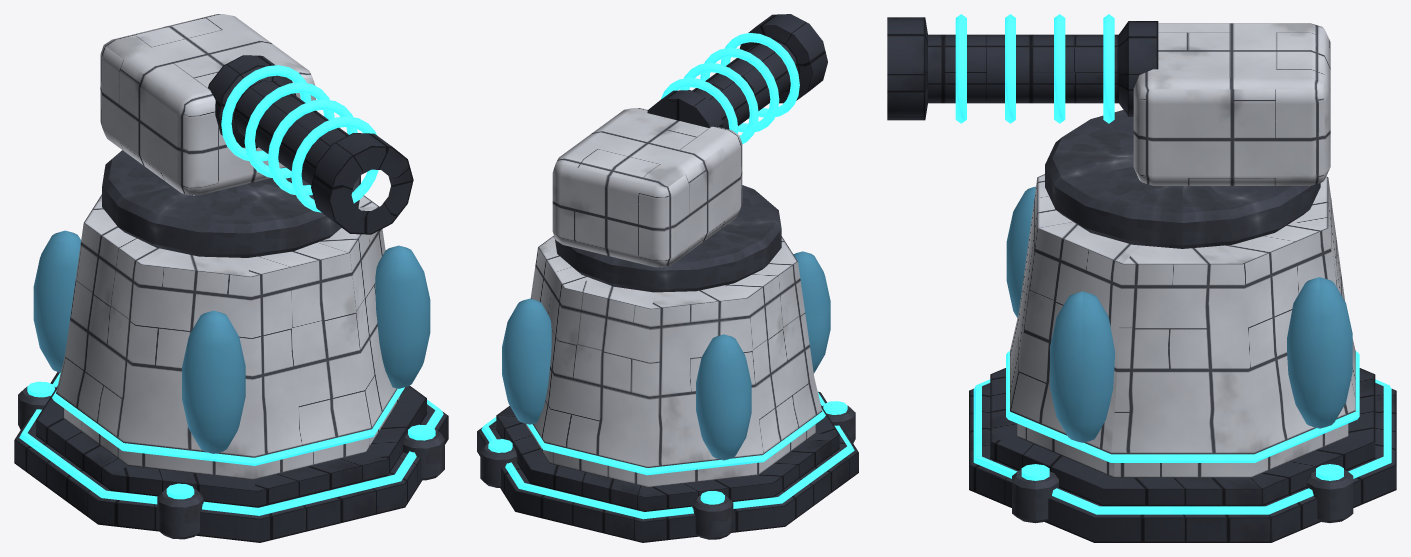
Rendered from sf_glacier.glb.
3 views of the same model, side by side, from view 1: azimuth 30°, elevation 25°; view 2: azimuth 150°, elevation 25°; view 3: azimuth 270°, elevation 25° (orthographic). The views are drawn at different scales.
Visible parts, largest first — view 1: Base, Turret; view 2: Base, Turret; view 3: Base, Turret.
Part boxes in pixels (x1,y1,x2,y2): Base: (14, 194, 448, 542); Turret: (100, 14, 413, 257); Base: (477, 235, 858, 542); Turret: (552, 14, 827, 292); Base: (969, 174, 1396, 542); Turret: (887, 14, 1330, 248).
Bounding box in the file's own units: 0.8684 × 0.972 × 1.03.
Materials: 5 (5 with a texture image).
